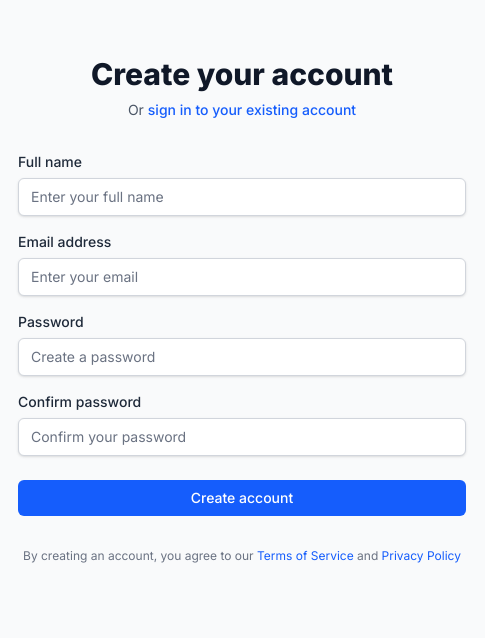
Test case: Authentication Flow › User Registration › should show validation errors for invalid input
What coordinates should you click on to do the following:
click the submit button
I would click on:
 (242, 498)
Its box is top-left (18, 480), bottom-right (466, 516).
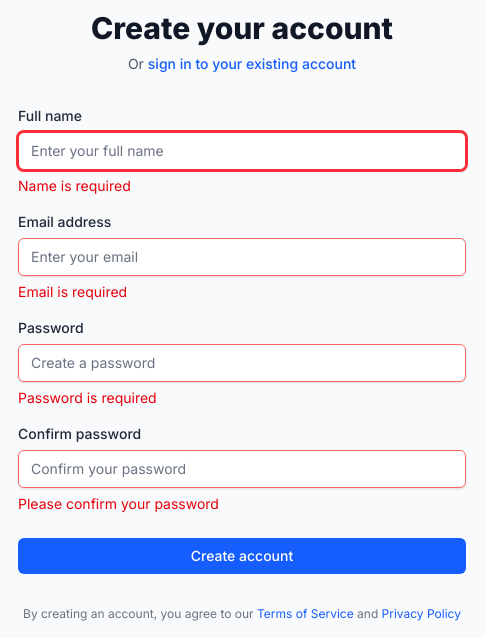
Now the text "Name is required" is shown, box top-left (18, 177), bottom-right (131, 194)
Now the text "Email is required" is shown, box top-left (18, 283), bottom-right (127, 300)
Now the text "Password is required" is shown, box top-left (18, 389), bottom-right (157, 406)
